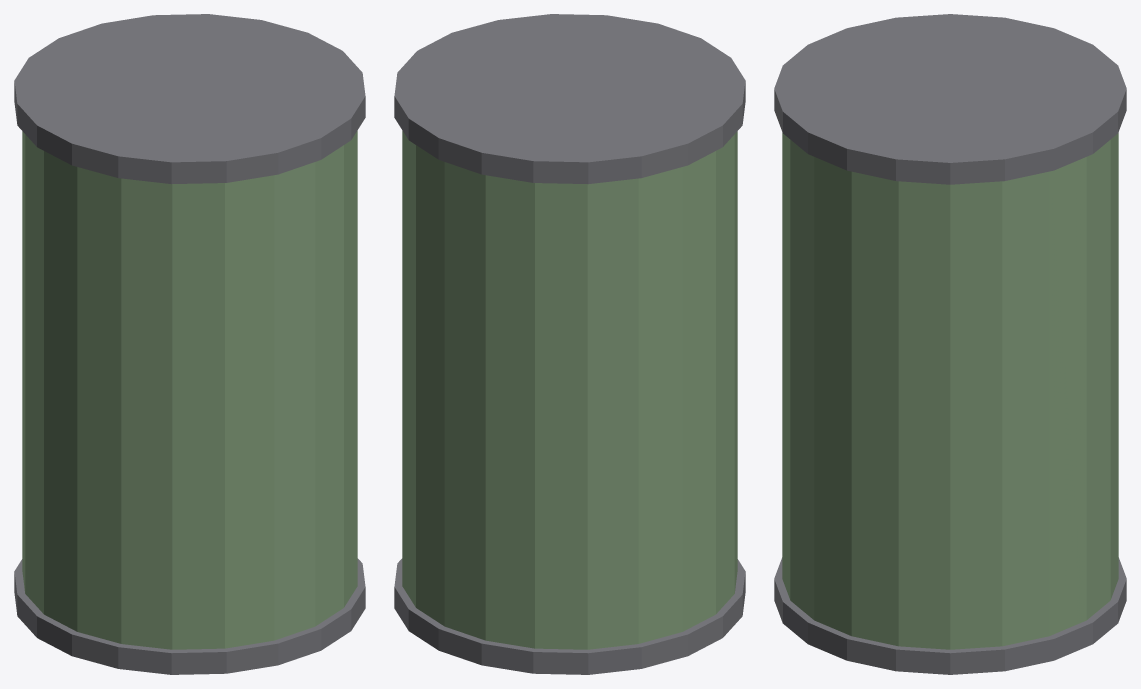
File: barrel.glb
3 views of the same model, side by side, from view 1: azimuth 30°, elevation 25°; view 2: azimuth 150°, elevation 25°; view 3: azimuth 270°, elevation 25° (orthographic).
Visible parts, largest first — view 1: barrel; view 2: barrel; view 3: barrel.
Boxes of the visible parts, x1=… form: barrel: x1=14, y1=14, x2=365, y2=674; barrel: x1=394, y1=14, x2=745, y2=674; barrel: x1=774, y1=14, x2=1126, y2=674.
Size of the model in its own units: 0.88 by 1.41 by 0.88.
